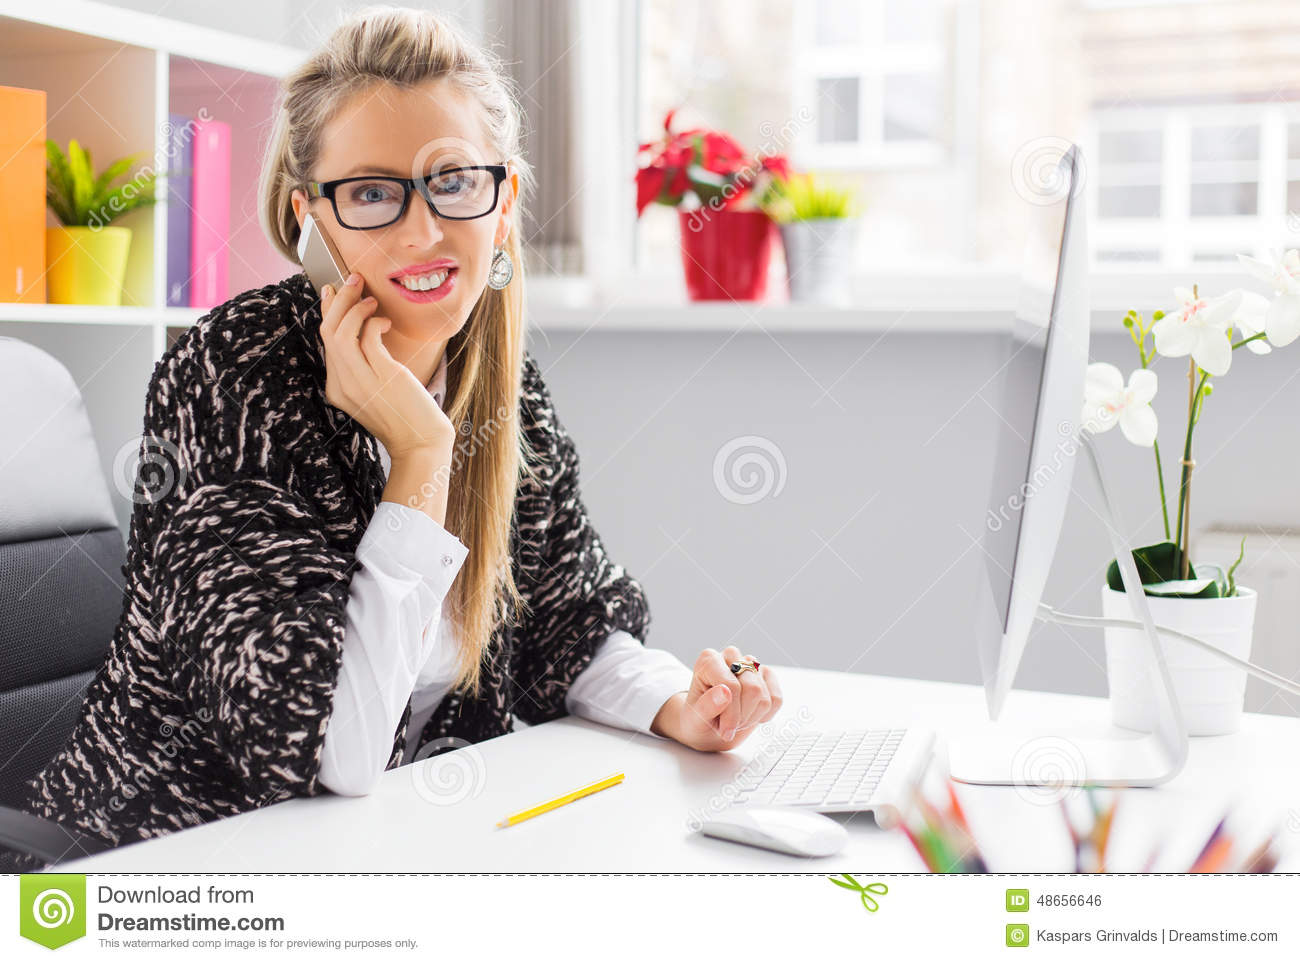phone: (296, 214, 366, 331)
talk: (294, 150, 500, 465)
